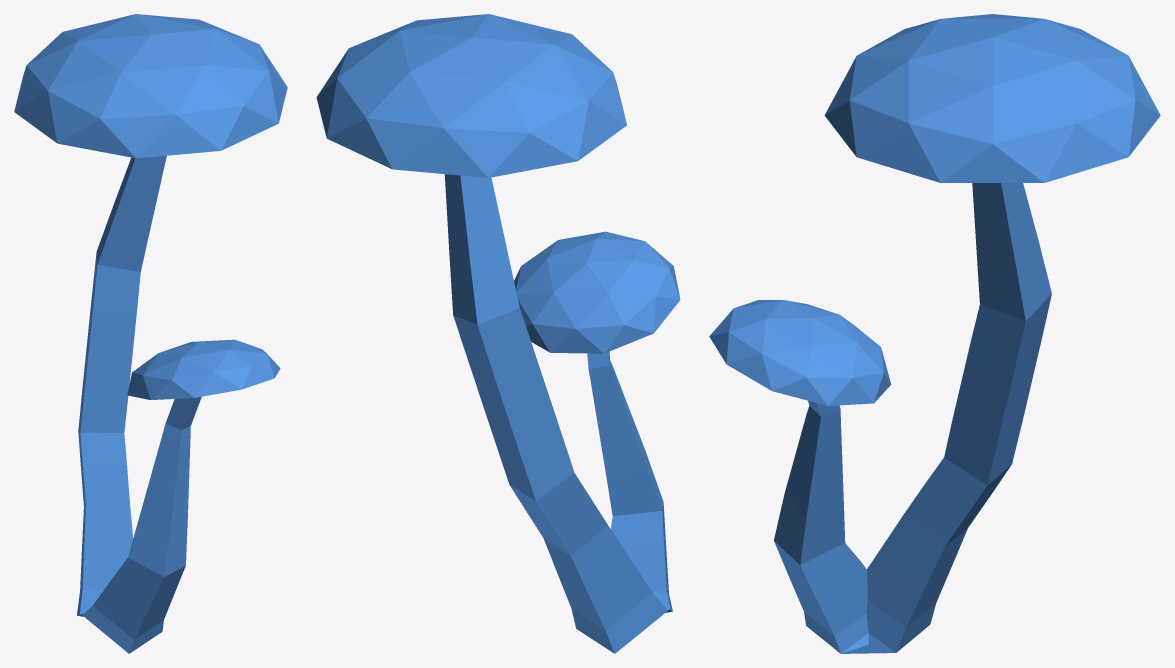
File: Mesh_Mushroom.fbx
3 renders of one model, left to right at view 1: azimuth 30°, elevation 25°; view 2: azimuth 150°, elevation 25°; view 3: azimuth 270°, elevation 25°, orthographic. The views are drawn at different scales.
Visible parts, largest first — view 1: champi final; view 2: champi final; view 3: champi final.
Boxes of the visible parts, left/top/right/bottom form: champi final: left=14, top=14, right=287, bottom=653; champi final: left=316, top=14, right=680, bottom=653; champi final: left=709, top=14, right=1160, bottom=653.
Size of the model in its own units: 121 by 262 by 166.
